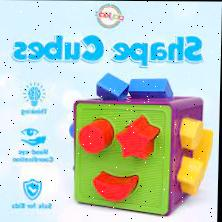cube: (72, 97, 204, 216)
